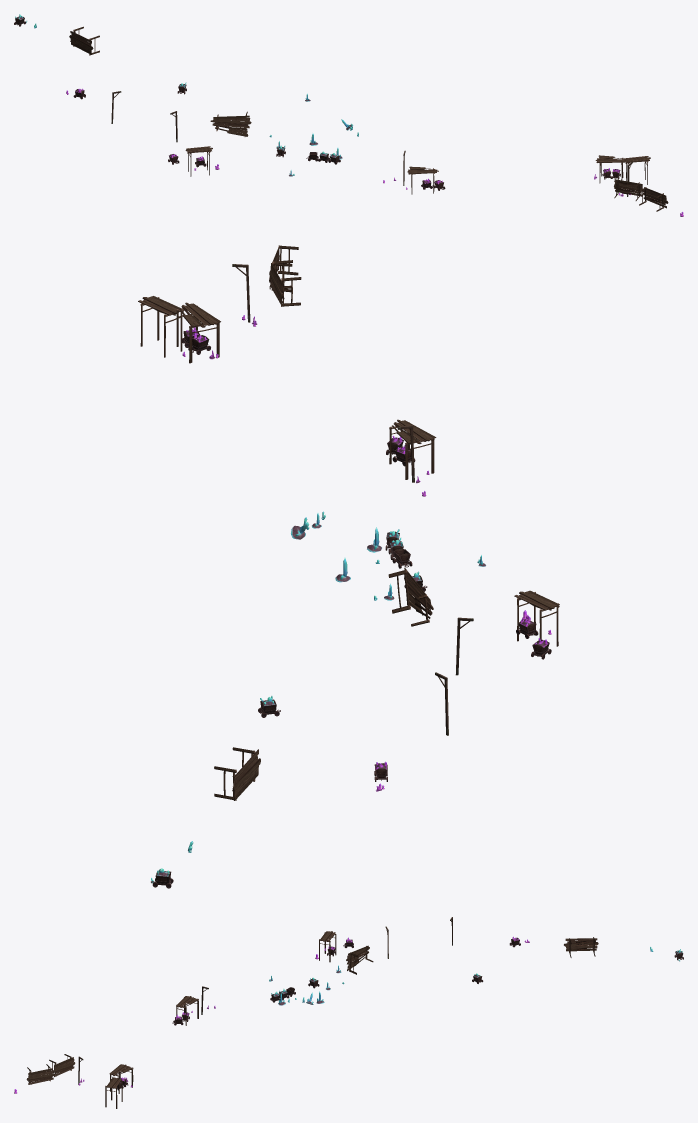
The model's file is area_14_shuijing.FBX.
3 renders of one model, top to bottom at view 1: azimuth 30°, elevation 25°; view 2: azimuth 150°, elevation 25°; view 3: azimuth 270°, elevation 25°, orthographic. The views are drawn at different scales.
Visible parts, largest first — view 1: area_14_shuijing; view 2: area_14_shuijing; view 3: area_14_shuijing.
Part boxes in pixels (x1,y1,x2,y2): area_14_shuijing: (14, 14, 683, 216); area_14_shuijing: (138, 245, 559, 888); area_14_shuijing: (14, 917, 683, 1108).
Size of the model in its own units: 10001 by 1365 by 17680.
